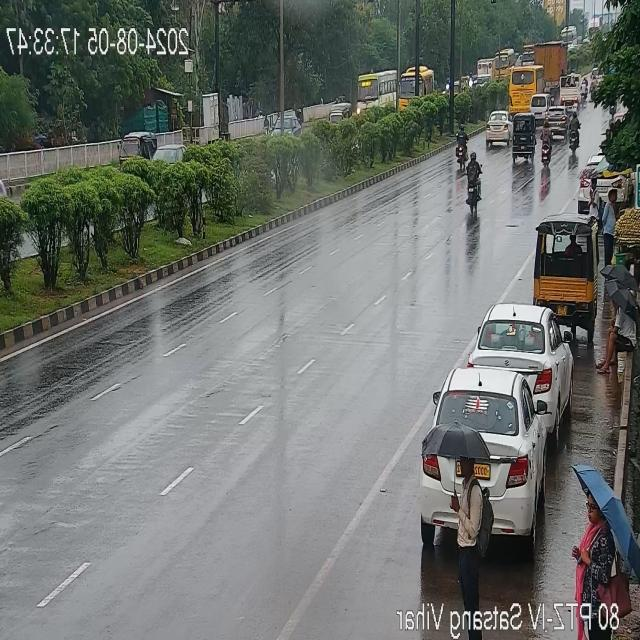2-wheelers: (460, 156, 484, 218), (534, 126, 554, 168), (564, 113, 582, 154), (457, 124, 469, 168), (582, 75, 590, 102), (262, 115, 268, 138)
auto: (530, 220, 595, 324), (509, 115, 537, 167), (118, 130, 156, 168), (330, 102, 350, 122)
bus: (507, 60, 541, 114), (399, 63, 433, 113), (359, 68, 399, 110), (495, 47, 515, 81)
car: (424, 373, 540, 543), (472, 306, 572, 410), (602, 184, 618, 268), (482, 108, 509, 147), (574, 156, 590, 208), (543, 105, 570, 131), (276, 114, 300, 142), (588, 175, 599, 217), (534, 95, 546, 124)
pedestrian: (447, 450, 491, 595), (576, 492, 622, 608), (594, 308, 636, 377)
truck: (540, 41, 568, 94), (560, 71, 582, 105), (476, 59, 494, 89)
